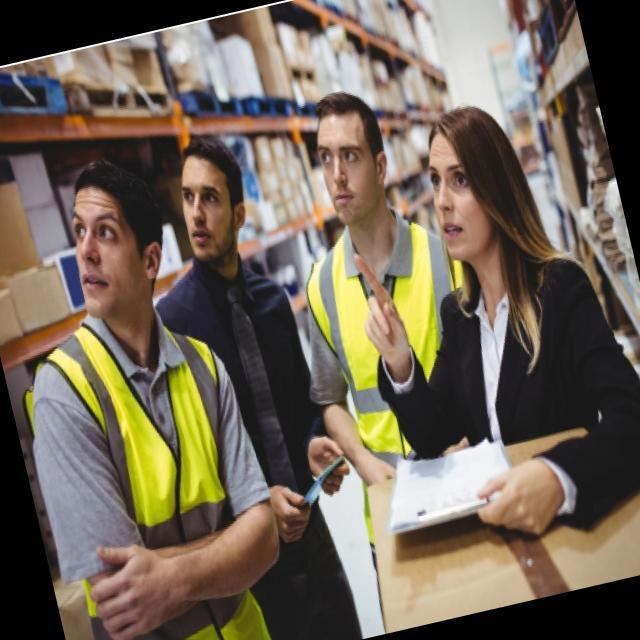vest: (2, 287, 287, 640), (289, 198, 530, 555)
